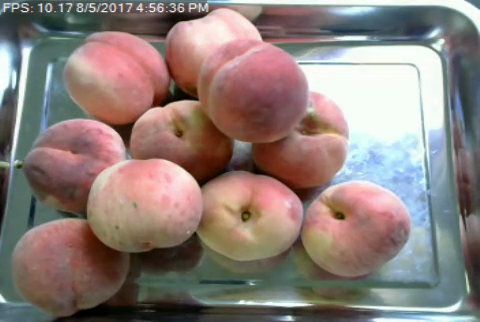Peach: (197, 38, 309, 141), (11, 217, 128, 315), (90, 155, 200, 252), (302, 179, 413, 274), (63, 28, 168, 127), (24, 118, 131, 214), (194, 170, 305, 260), (250, 91, 348, 183), (164, 8, 263, 96), (129, 100, 234, 179)
